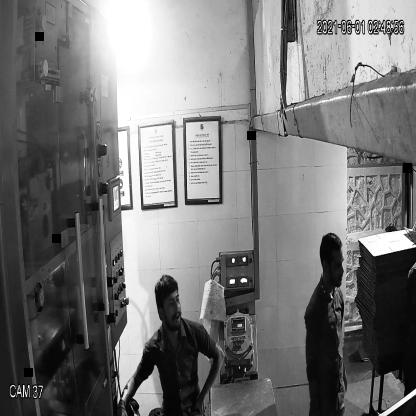no_goggles: (153, 292, 185, 316), (318, 257, 349, 278)
